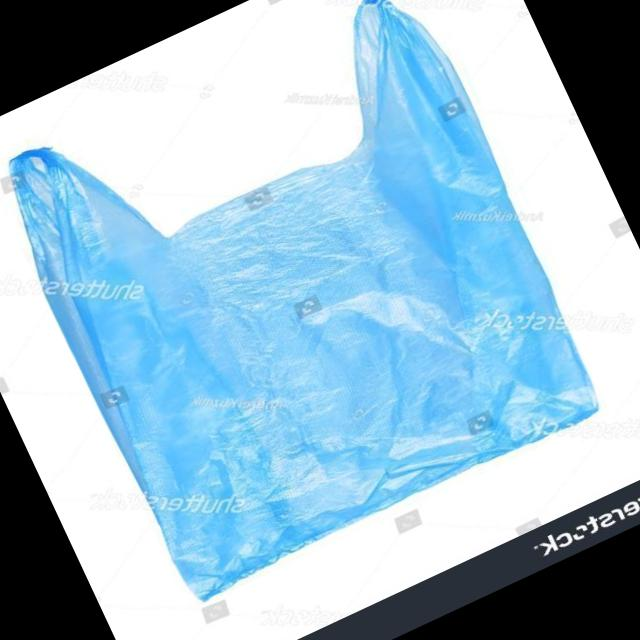KantongPlastik: (0, 0, 616, 608)
